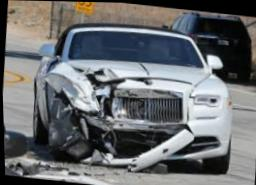Bonnet: (67, 58, 210, 121)
Bumper: (44, 62, 217, 170)
